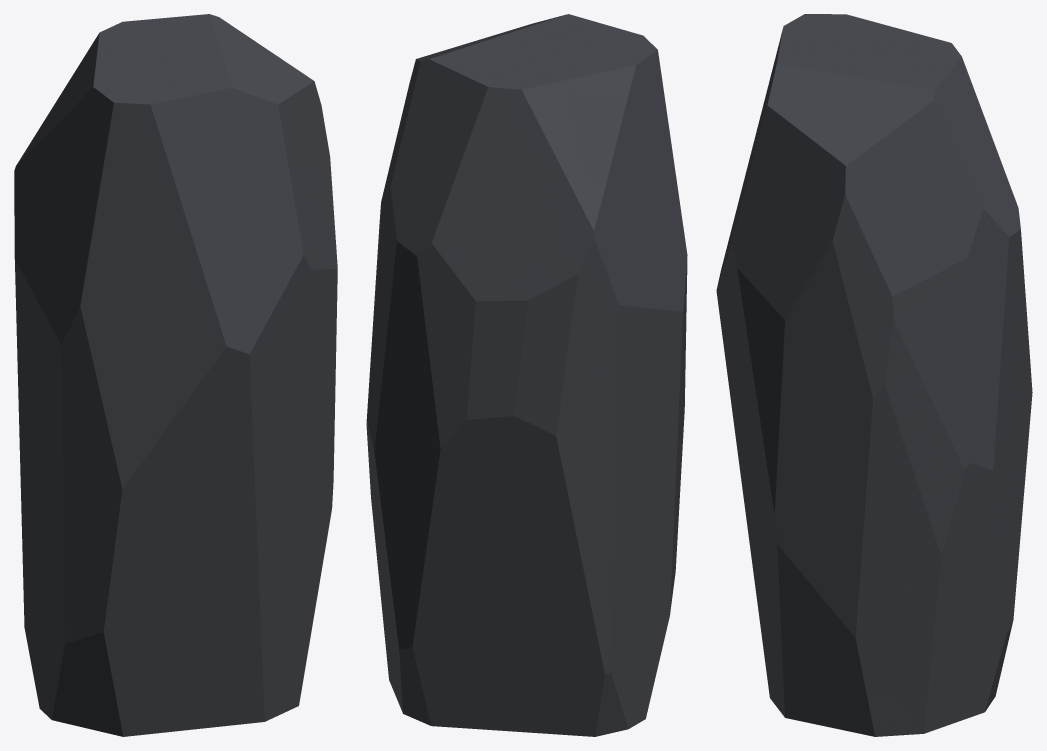
File: rock10.obj
3 views of the same model, side by side, from view 1: azimuth 30°, elevation 25°; view 2: azimuth 150°, elevation 25°; view 3: azimuth 270°, elevation 25° (orthographic). The views are drawn at different scales.
Size of the model in its own units: 1.9 by 4.2 by 1.94.
Materials: 1 (1 with a texture image).
